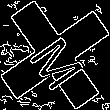M_NE: (21, 21, 89, 89)
